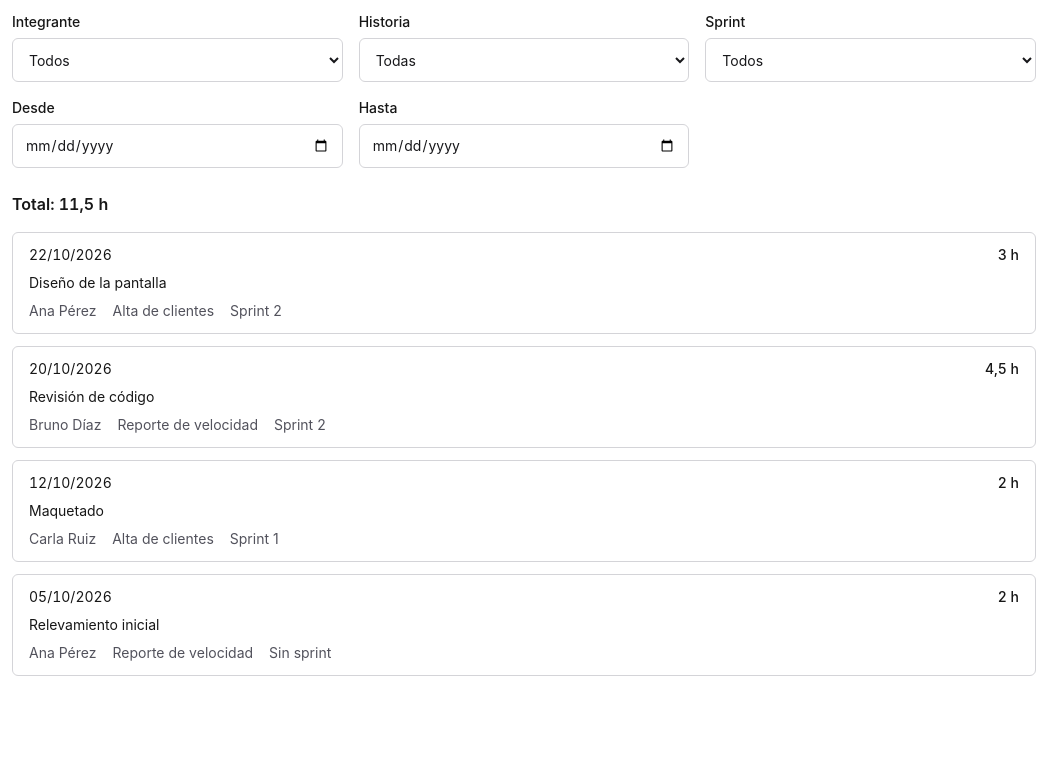
Test: 006/US4 - Consultar el esfuerzo del proyecto con filtros › Caso alternativo — filtro por un integrante concreto
Check: the number of list items is 4, box [12,232,1036,334]; [12,346,1036,448]; [12,460,1036,562]; [12,574,1036,676]
Check: the list item that starts with "3 h" shows "Diseño de la pantalla", box [29,274,166,291]
Step 1. Select "Bruno Díaz" in the dropdown labelled "Integrante" → (177, 60), box [12,38,343,82]
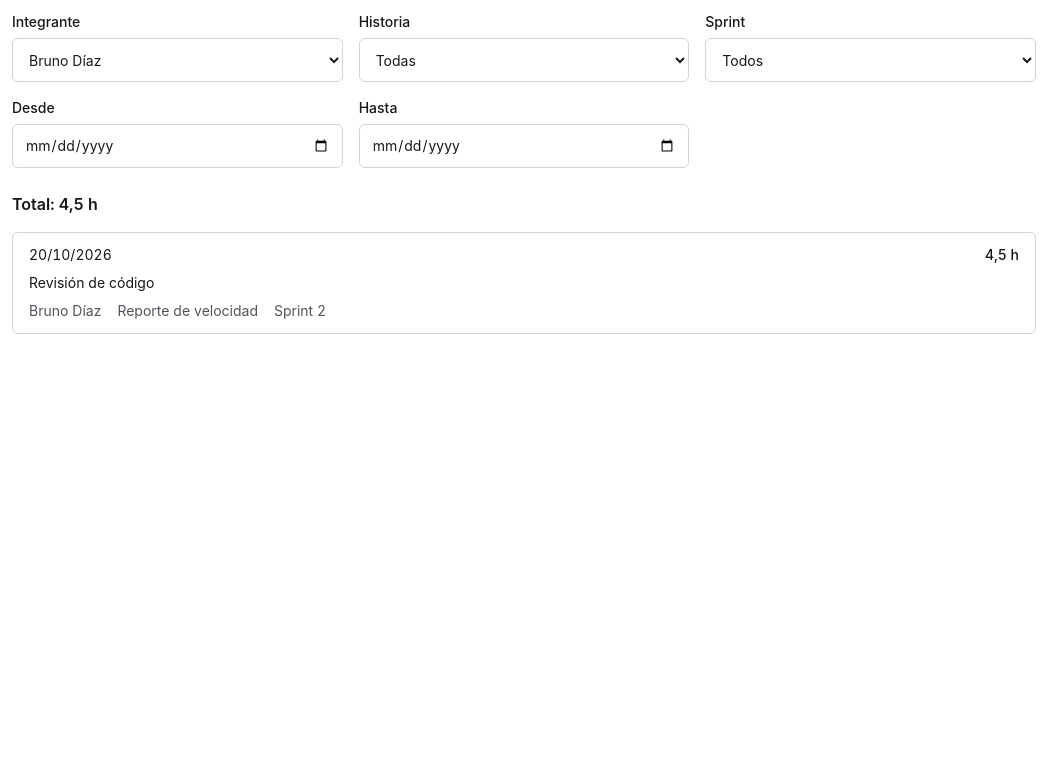
Check: the list item shows "Revisión de código", box [29,274,154,291]
Check: the number of list items is 1, box [12,232,1036,334]
Check: the text "Total: 4,5 h" is shown, box [12,194,98,214]
